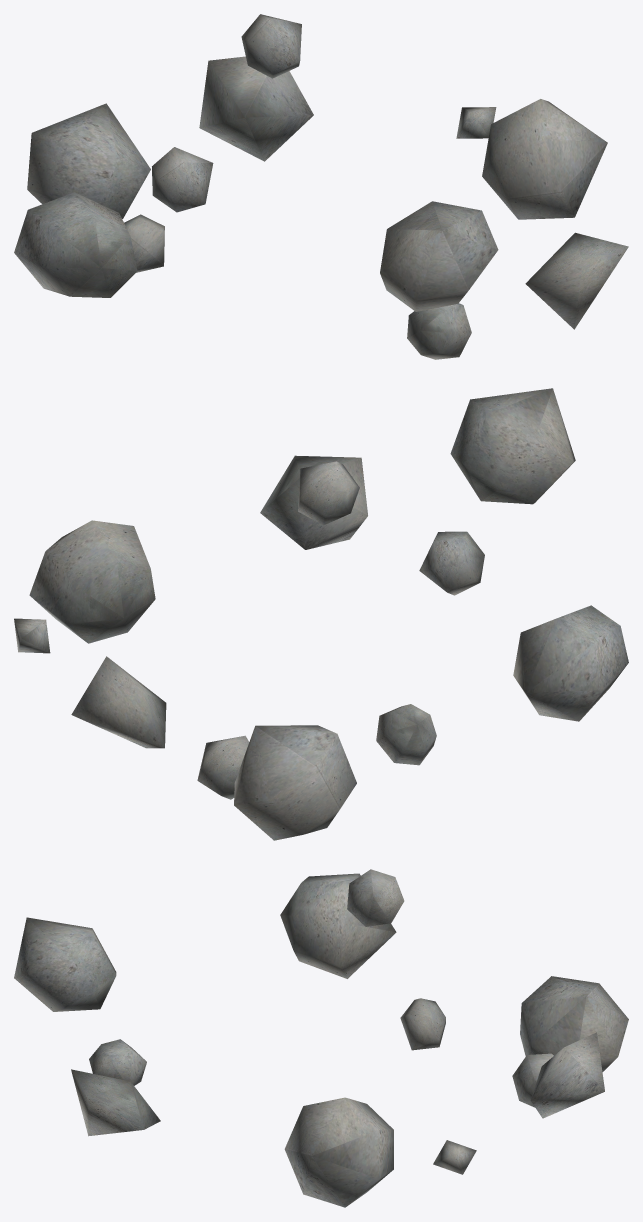
File: stone_effect14.obj
3 renders of one model, top to bottom at view 1: azimuth 30°, elevation 25°; view 2: azimuth 150°, elevation 25°; view 3: azimuth 270°, elevation 25°, orthographic. The views are drawn at different scales.
Visible parts, largest first — view 1: Sphere011; view 2: Sphere011; view 3: Sphere011.
Part boxes in pixels (bbox=[...]): Sphere011: bbox=[14, 14, 628, 359]; Sphere011: bbox=[14, 388, 628, 840]; Sphere011: bbox=[14, 869, 628, 1207].
Size of the model in its own units: 253 by 114 by 269.
Materials: 1 (1 with a texture image).
